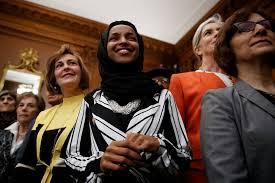middle_eastern_Female: (230, 18, 275, 64), (106, 25, 140, 64), (51, 55, 84, 90)
